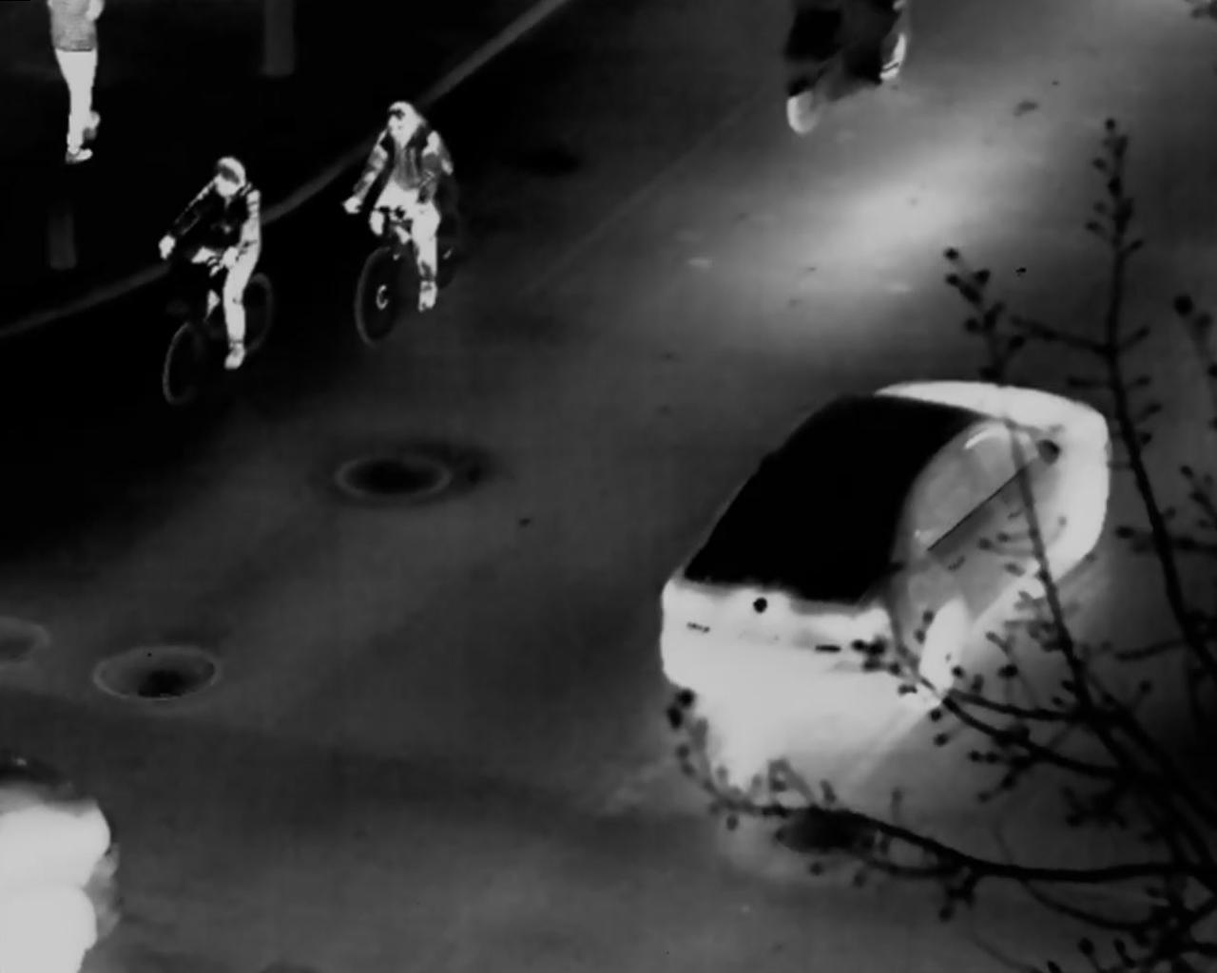person: (342, 98, 454, 315), (160, 157, 261, 370)
